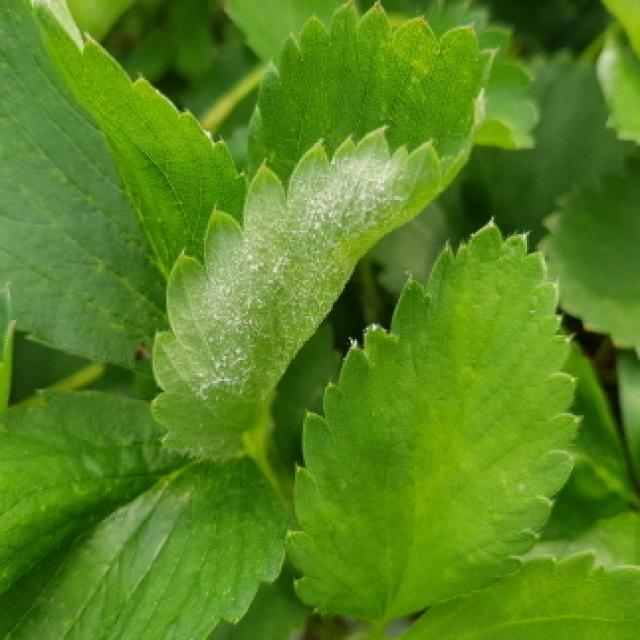Powdery Mildew Leaf: (151, 0, 503, 461)
